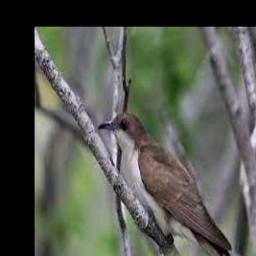Cuckoo: (97, 113, 255, 256)
